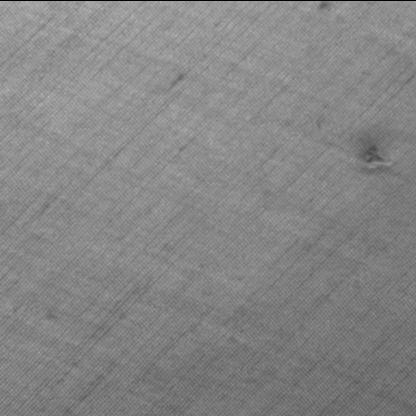objects: (358, 141, 393, 169)
